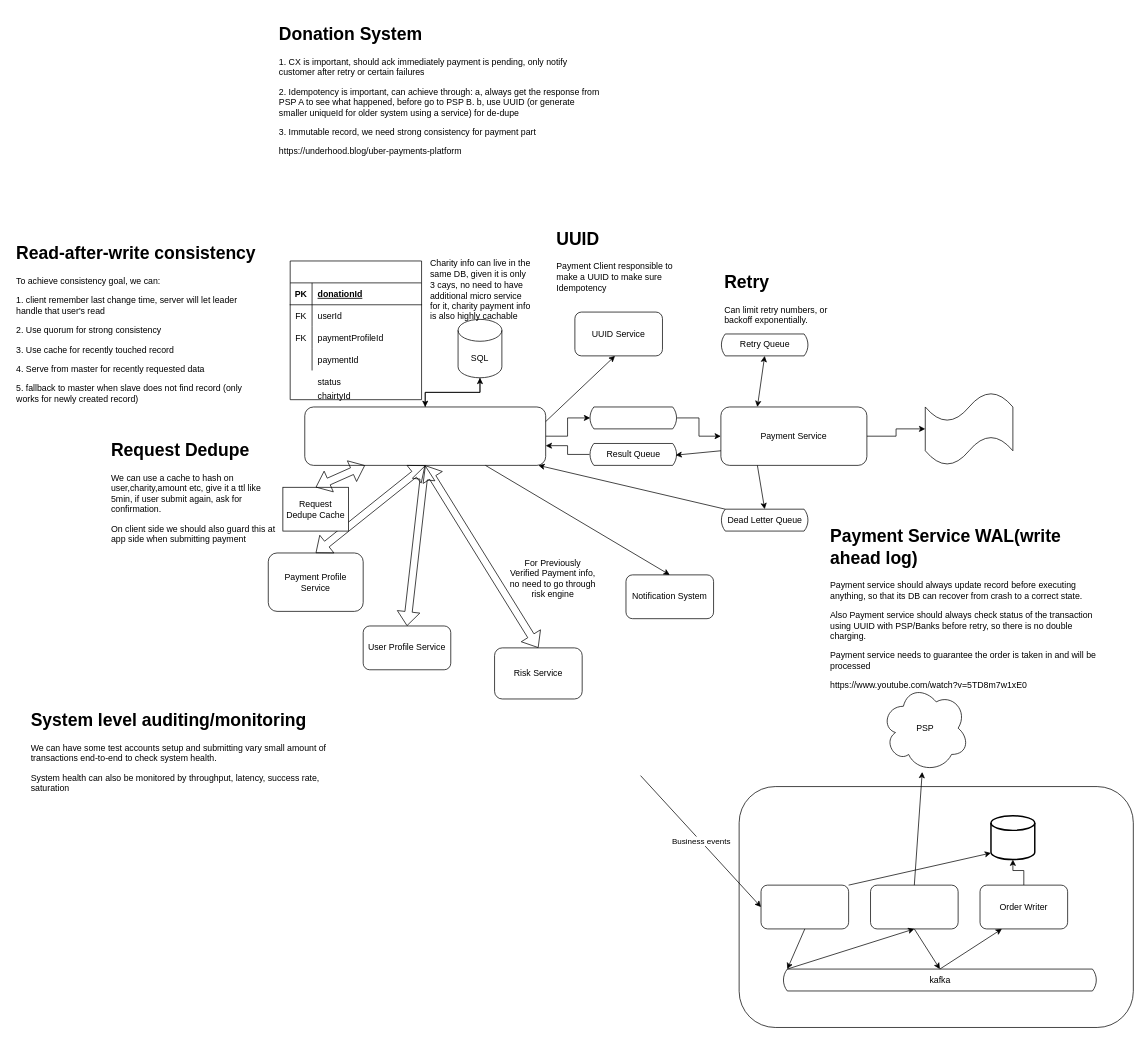
The diagram is 1146 pixels wide and 1040 high, and some of its shapes have lost their labels. Each missing label, with the box of its shape:
Donation Service: (304, 406, 546, 465)
Order Creator: (760, 884, 849, 929)
Order DB: (990, 815, 1035, 860)
Order Processor: (870, 884, 958, 929)
Order Queue: (589, 406, 677, 429)
PSP/Banks: (925, 392, 1013, 465)
Table: (289, 260, 422, 400)
